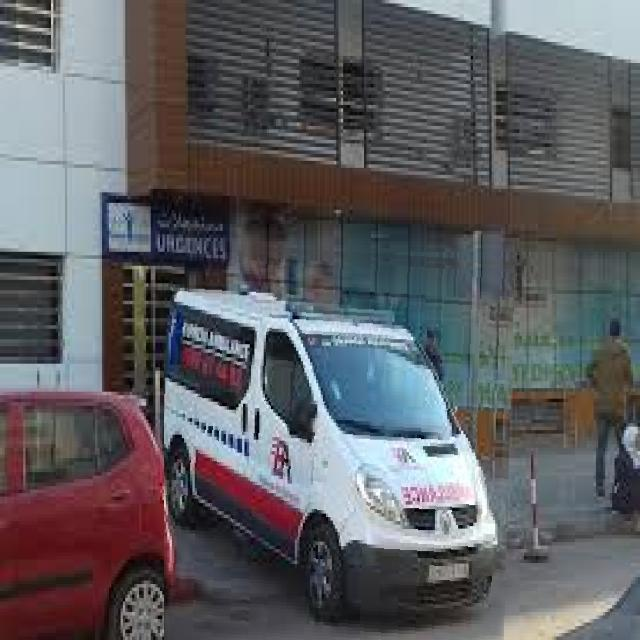ambulance: (164, 241, 515, 640)
